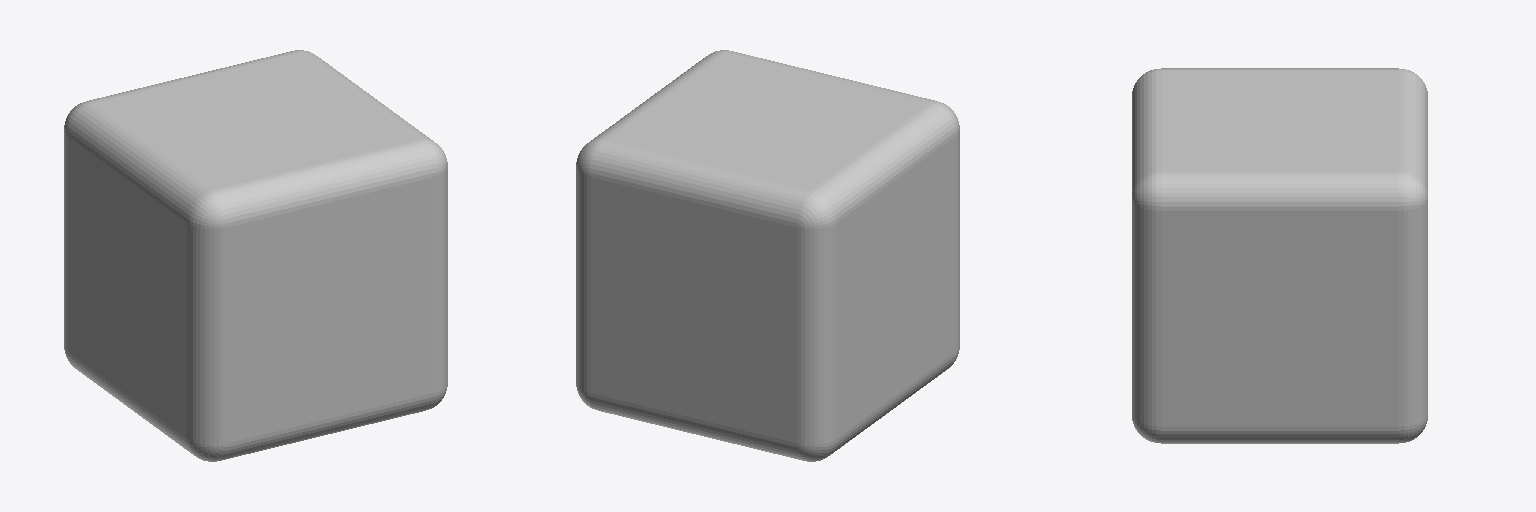
The model's file is cubo1.obj.
3 renders of one model, left to right at view 1: azimuth 30°, elevation 25°; view 2: azimuth 150°, elevation 25°; view 3: azimuth 270°, elevation 25°, orthographic.
Parts seen in each view (by area): view 1: obj_0; view 2: obj_0; view 3: obj_0.
Part boxes in pixels (bbox=[...]): obj_0: bbox=[64, 50, 447, 461]; obj_0: bbox=[576, 50, 959, 461]; obj_0: bbox=[1132, 68, 1427, 443].
Bounding box in the file's own units: 10 × 10 × 10.